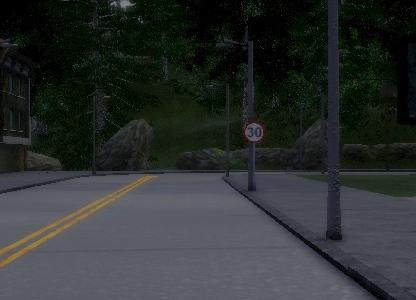Speed_30: (243, 120, 266, 143)
